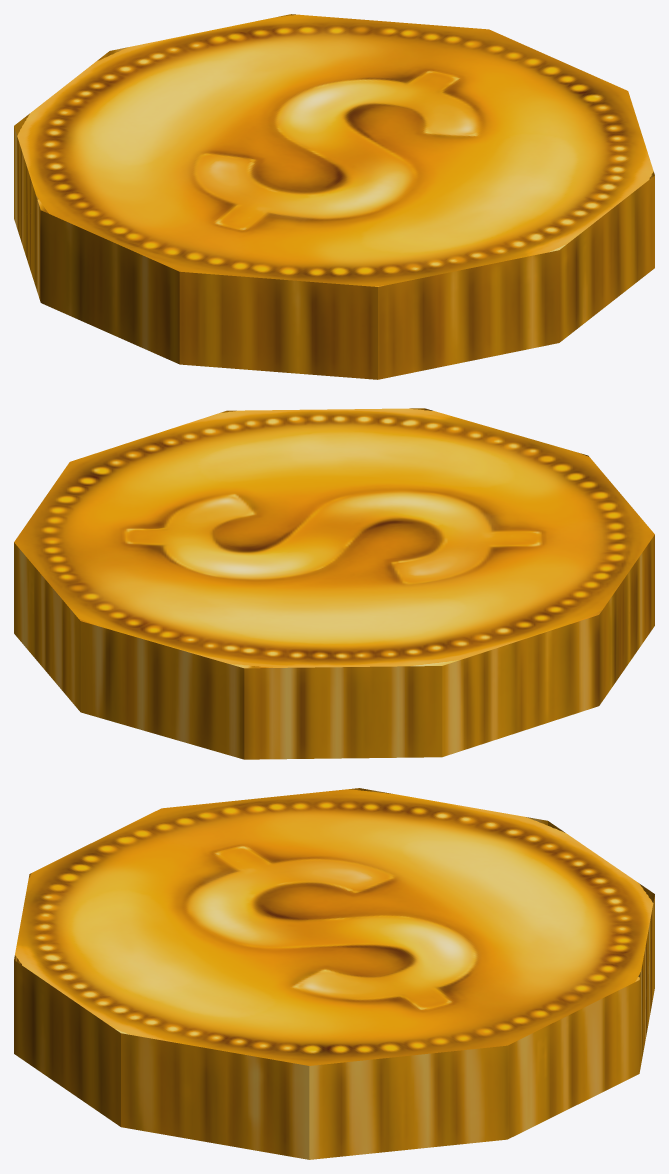
File: coin_003.fbx
3 views of the same model, one above another, from view 1: azimuth 30°, elevation 25°; view 2: azimuth 150°, elevation 25°; view 3: azimuth 270°, elevation 25° (orthographic). The views are drawn at different scales.
Parts seen in each view (by area): view 1: coin_003; view 2: coin_003; view 3: coin_003.
Boxes of the visible parts, x1,y1,x2,y2 form: coin_003: (14, 14, 654, 379); coin_003: (14, 408, 654, 759); coin_003: (14, 788, 654, 1159).
Bounding box in the file's own units: 4.24 × 0.6685 × 4.13.
